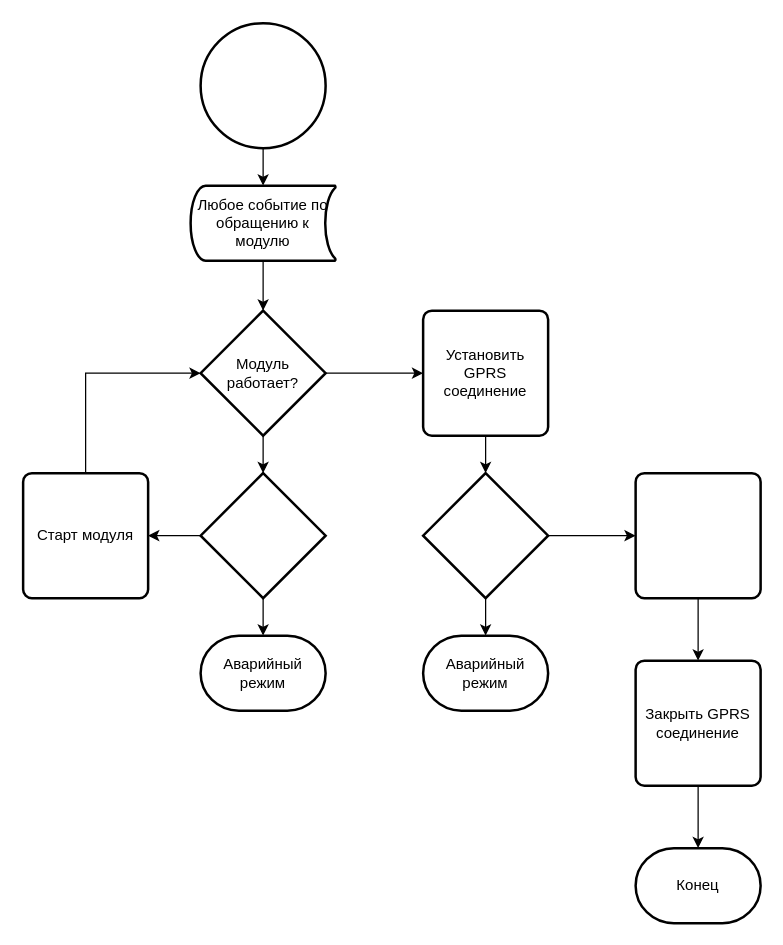
Some shapes in this 783 by 945 pixel diagram are drawn without their labels. The shapes that lost their labels are listed below. From the top down, each one's box as (x1, y1, x2, y2) in pixels, then its label:
(199, 21, 326, 149): Нормальный режим сим модуля
(199, 471, 326, 599): Первый раз?
(421, 471, 549, 599): Установлено?
(634, 471, 761, 599): Передать или запросить данные
